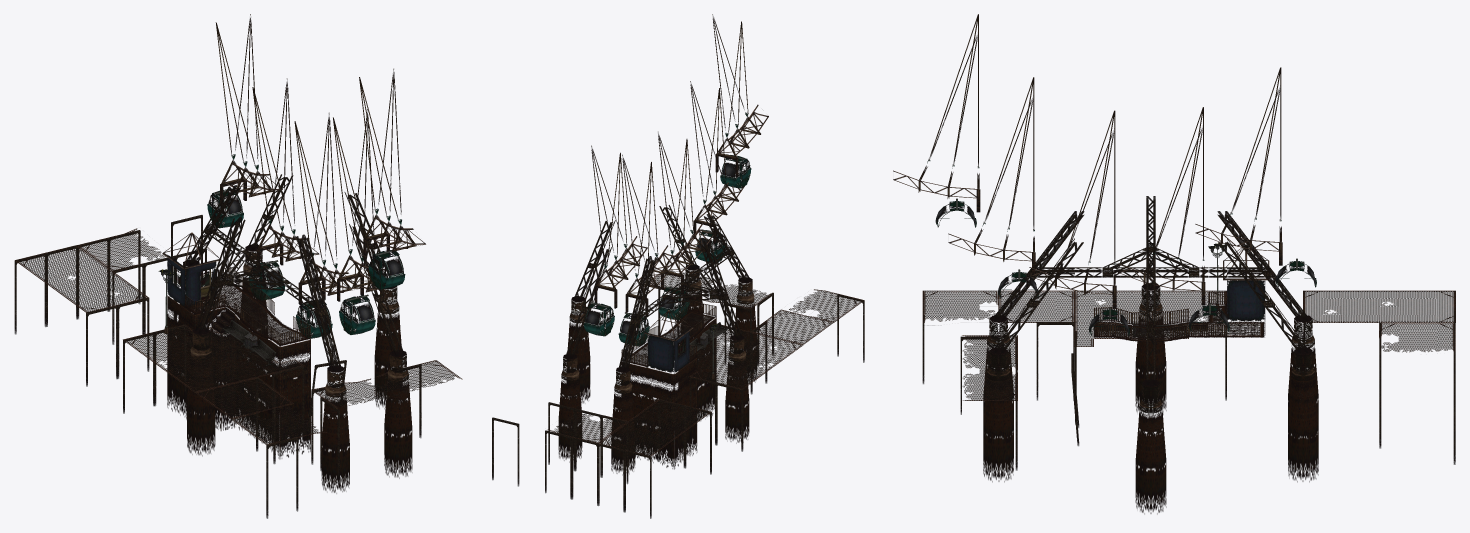
The model's file is APU00FF.glb.
3 renders of one model, left to right at view 1: azimuth 30°, elevation 25°; view 2: azimuth 150°, elevation 25°; view 3: azimuth 270°, elevation 25°, orthographic. The views are drawn at different scales.
Parts seen in each view (by area): view 1: KOYA2U_B_m0, F1_BACK0_m0, KOYA2_FA_m0, IRONBSU_#1_m0, IRONBSU_#2_m0, F3_BACK0_m0, KOYA1_FA_m0, IRONBSU__m0, APUG03_B_m0, F8_BACK0_m0, F7_BACK0_m0, F5_BACK0_m0 (+33 smaller); view 2: KOYA1U_B_m0, F1_BACK0_m0, KOYA1_FA_m0, KOYA2U_B_m0, IRONBSU_#2_m0, APUG03_B_m0, IRONBSU_#4_m0, F8_BACK0_m0, F7_BACK0_m0, IRONBSU_#5_m0, F5_BACK0_m0, F2_BACK0_m0 (+29 smaller); view 3: F1_BACK0_m0, IRONBSU_#3_m0, IRONBSU_#5_m0, IRONBSU_#1_m0, F3_BACK0_m0, F7_BACK0_m0, F8_BACK0_m0, F2_BACK0_m0, KOYA1_FA_m0, F5_BACK0_m0, IRON1_m0, APU0202_m0 (+18 smaller).
Part boxes in pixels (left/top/right/bottom): KOYA2U_B_m0: left=185, top=327, right=310, bottom=459; F1_BACK0_m0: left=123, top=324, right=303, bottom=392; KOYA2_FA_m0: left=185, top=293, right=310, bottom=362; IRONBSU_#1_m0: left=384, top=379, right=412, bottom=478; IRONBSU_#2_m0: left=187, top=357, right=215, bottom=456; F3_BACK0_m0: left=311, top=360, right=462, bottom=408; KOYA1_FA_m0: left=167, top=254, right=246, bottom=322; IRONBSU__m0: left=321, top=395, right=349, bottom=493; APUG03_B_m0: left=195, top=377, right=293, bottom=418; F8_BACK0_m0: left=51, top=271, right=148, bottom=313; F7_BACK0_m0: left=15, top=245, right=112, bottom=286; F5_BACK0_m0: left=77, top=228, right=165, bottom=271; KOYA1U_B_m0: left=621, top=377, right=689, bottom=469; F1_BACK0_m0: left=683, top=325, right=803, bottom=389; KOYA1_FA_m0: left=621, top=328, right=689, bottom=387; KOYA2U_B_m0: left=678, top=337, right=716, bottom=455; IRONBSU_#2_m0: left=725, top=360, right=749, bottom=443; APUG03_B_m0: left=751, top=309, right=833, bottom=344; IRONBSU_#4_m0: left=611, top=391, right=635, bottom=475; F8_BACK0_m0: left=628, top=399, right=711, bottom=434; F7_BACK0_m0: left=598, top=421, right=680, bottom=456; IRONBSU_#5_m0: left=558, top=378, right=582, bottom=462; F5_BACK0_m0: left=547, top=411, right=628, bottom=443; F2_BACK0_m0: left=789, top=289, right=864, bottom=322; F1_BACK0_m0: left=1074, top=290, right=1226, bottom=346; IRONBSU_#3_m0: left=1135, top=410, right=1166, bottom=514; IRONBSU_#5_m0: left=1288, top=378, right=1318, bottom=482; IRONBSU_#1_m0: left=983, top=379, right=1013, bottom=482; F3_BACK0_m0: left=962, top=335, right=1017, bottom=400; F7_BACK0_m0: left=1379, top=290, right=1455, bottom=322; F8_BACK0_m0: left=1303, top=290, right=1379, bottom=322; F2_BACK0_m0: left=922, top=290, right=998, bottom=325; KOYA1_FA_m0: left=1227, top=280, right=1265, bottom=337; F5_BACK0_m0: left=1379, top=322, right=1455, bottom=352; IRON1_m0: left=1075, top=247, right=1226, bottom=277; APU0202_m0: left=1094, top=291, right=1226, bottom=340.
Size of the model in its own units: 15.53 by 25.57 by 29.57.
22 materials, 21 textured.
